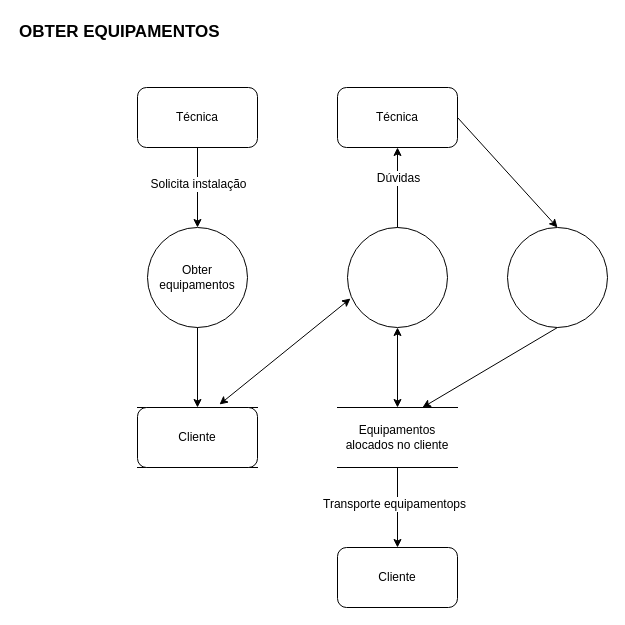
Image size: 625x625. Some labels were removed from this diagram. Here are the shapes that lost their labels. From the top down, the centre of each, then its label:
pixel 397 277: Transportar equipamentos
pixel 557 277: Registrar respostas
